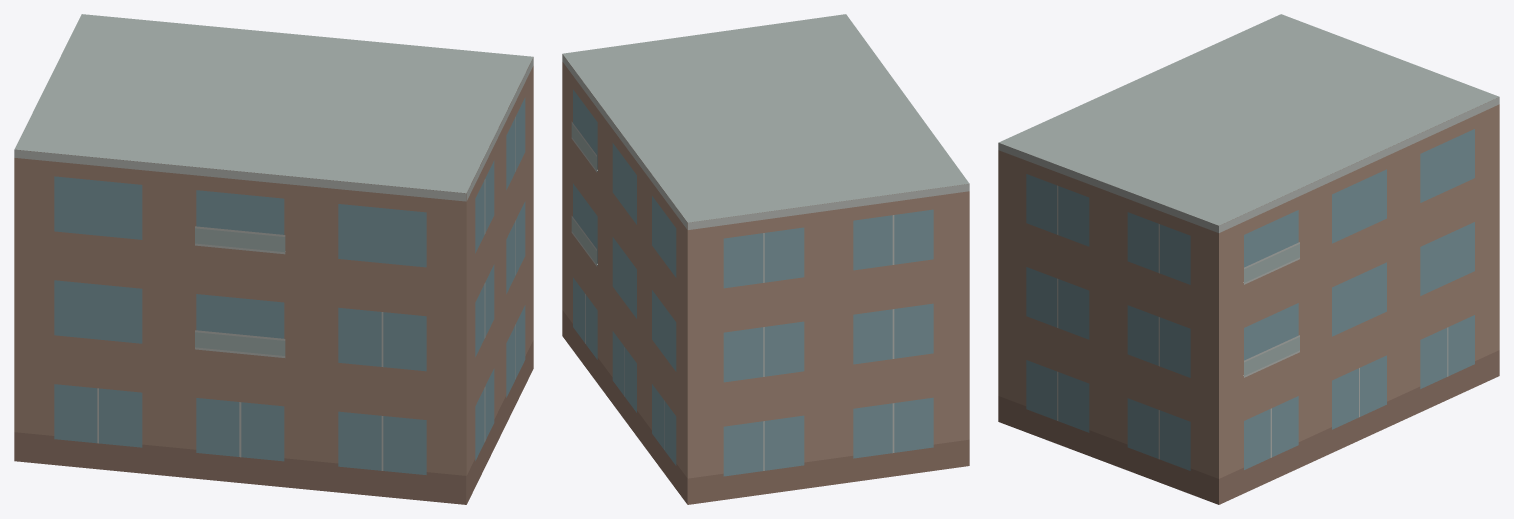
The model's file is survey-upis-32982250.glb.
3 views of the same model, side by side, from view 1: azimuth 30°, elevation 25°; view 2: azimuth 150°, elevation 25°; view 3: azimuth 270°, elevation 25° (orthographic). The views are drawn at different scales.
Parts seen in each view (by area): view 1: survey-upis-32982250.tmp; view 2: survey-upis-32982250.tmp; view 3: survey-upis-32982250.tmp.
Boxes of the visible parts, left/top/right/bottom form: survey-upis-32982250.tmp: left=14, top=14, right=533, bottom=504; survey-upis-32982250.tmp: left=562, top=14, right=969, bottom=504; survey-upis-32982250.tmp: left=998, top=14, right=1499, bottom=504.
Bounding box in the file's own units: 14.9 × 9.15 × 14.9.
